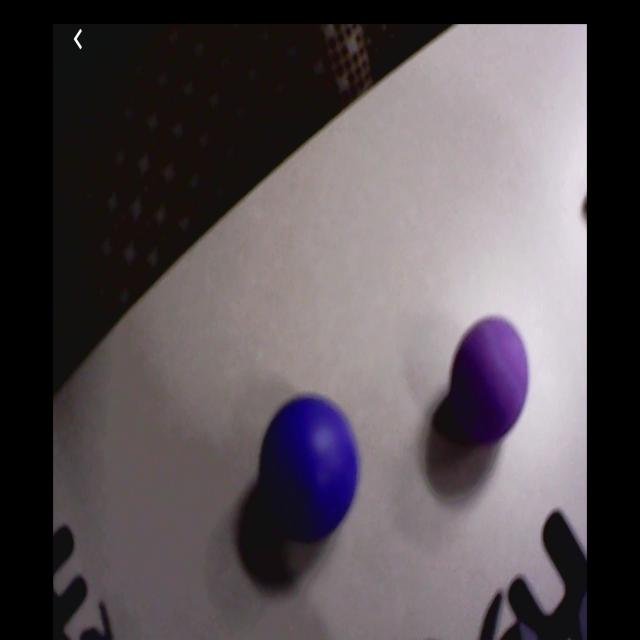ball: (261, 395, 360, 543), (451, 317, 530, 446)
